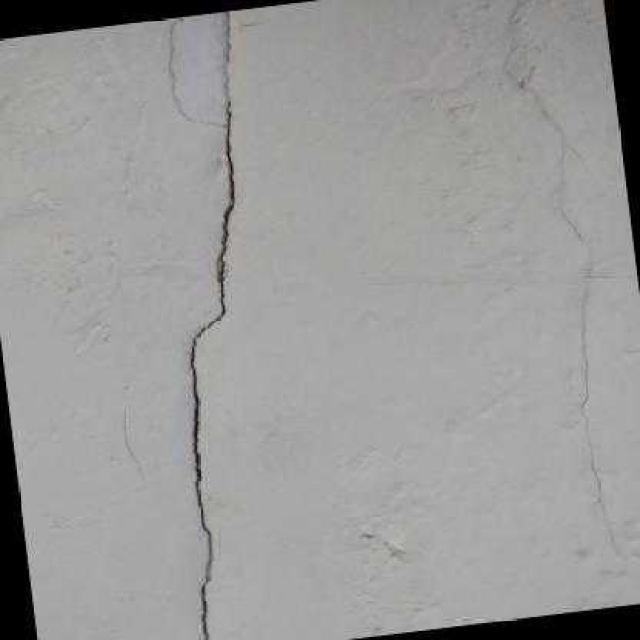D00: (190, 9, 235, 640)
